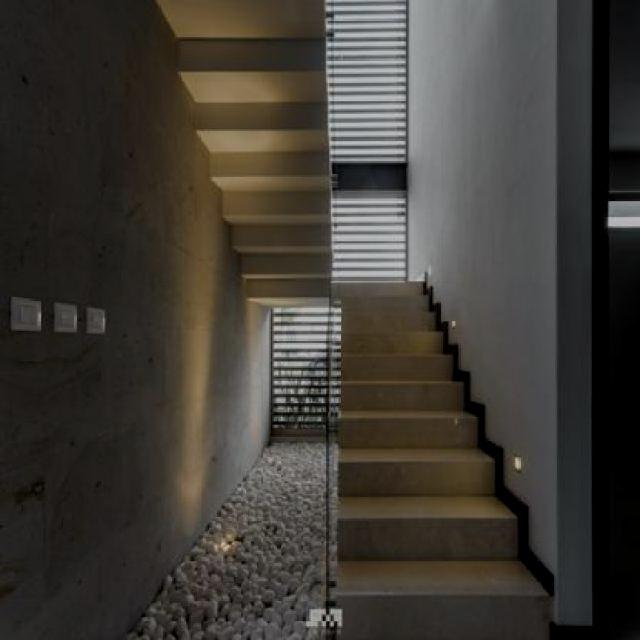stair: (321, 225, 557, 638), (151, 0, 340, 311)
